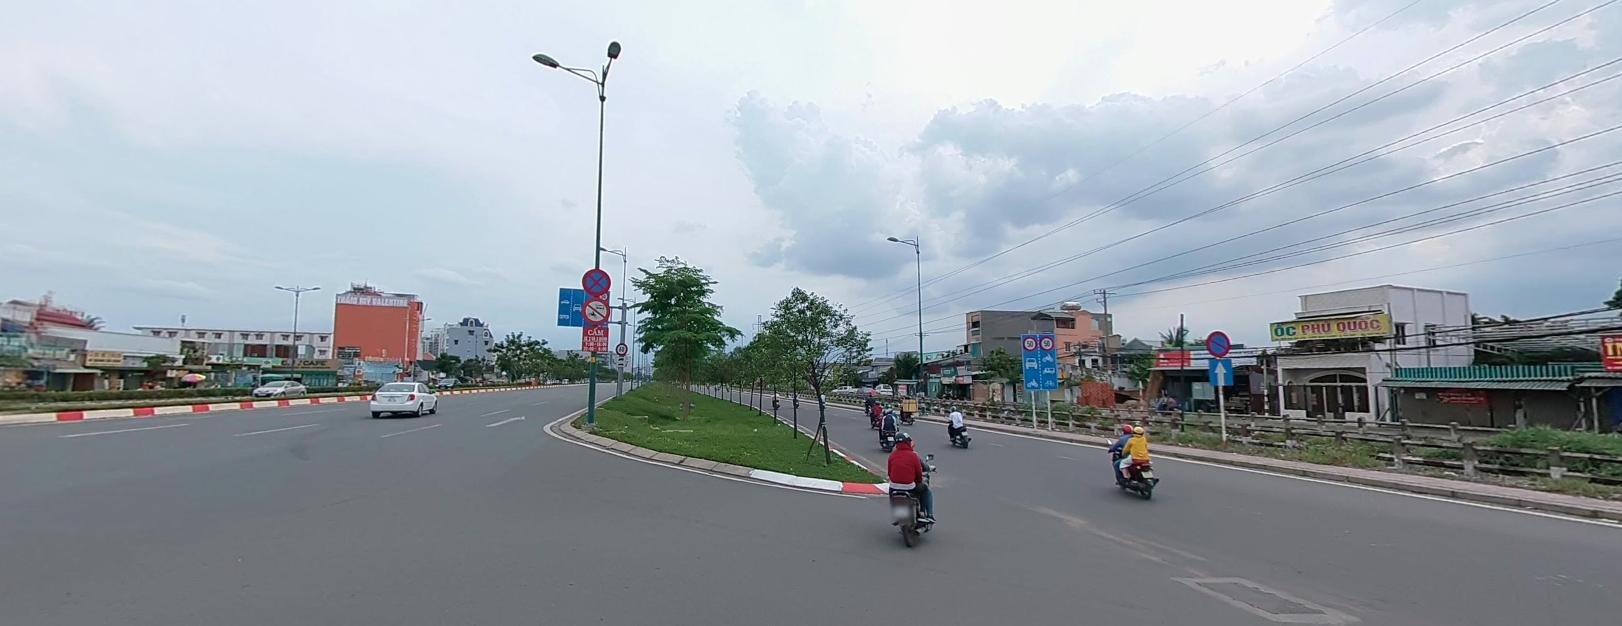Cam con lai: (582, 297, 608, 322)
Cam dung va do: (582, 268, 610, 293), (1206, 330, 1230, 355)
Gioi han toc do: (1040, 335, 1053, 348), (1023, 336, 1035, 349), (615, 342, 627, 353)
